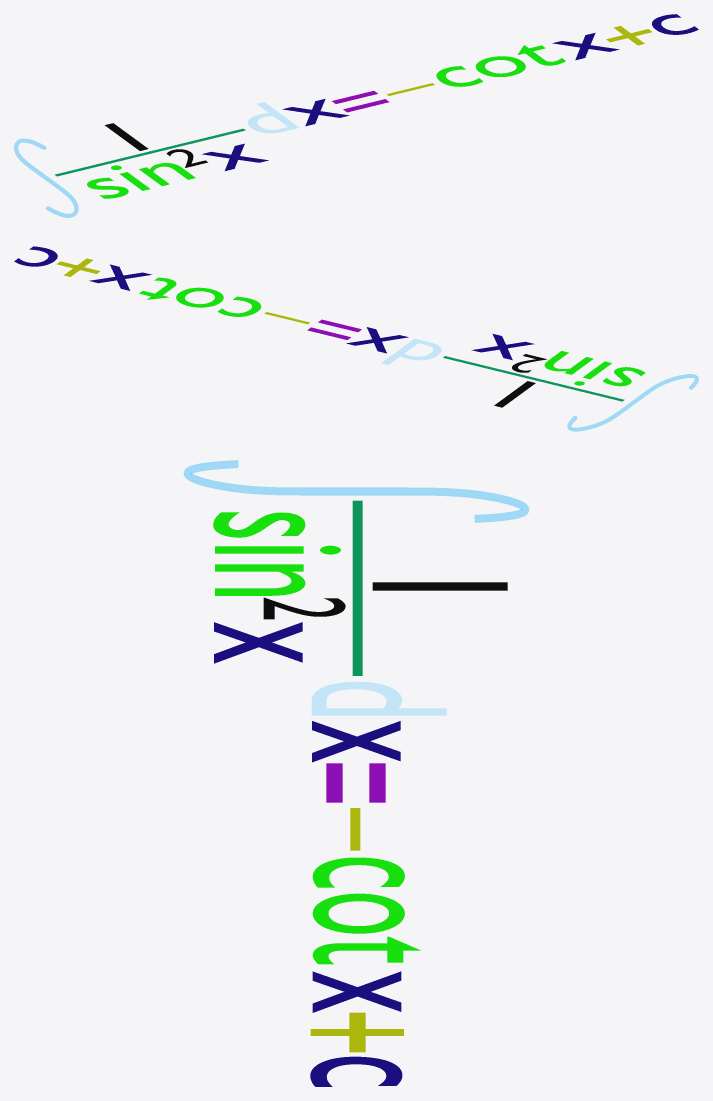
File: int1pesinla2x.glb
The picture shows the model from 3 angles, top to bottom: view 1: azimuth 30°, elevation 25°; view 2: azimuth 150°, elevation 25°; view 3: azimuth 270°, elevation 25°; orthographic projection. The views are drawn at different scales.
Parts seen in each view (by area): view 1: int din 1 pe sin la 2 x dx; view 2: int din 1 pe sin la 2 x dx; view 3: int din 1 pe sin la 2 x dx.
Part boxes in pixels (x1=…): int din 1 pe sin la 2 x dx: x1=14, y1=14, x2=698, y2=217; int din 1 pe sin la 2 x dx: x1=14, y1=246, x2=698, y2=431; int din 1 pe sin la 2 x dx: x1=184, y1=460, x2=528, y2=1086.
Size of the model in its own units: 7.48 by 0.0401 by 1.75.
